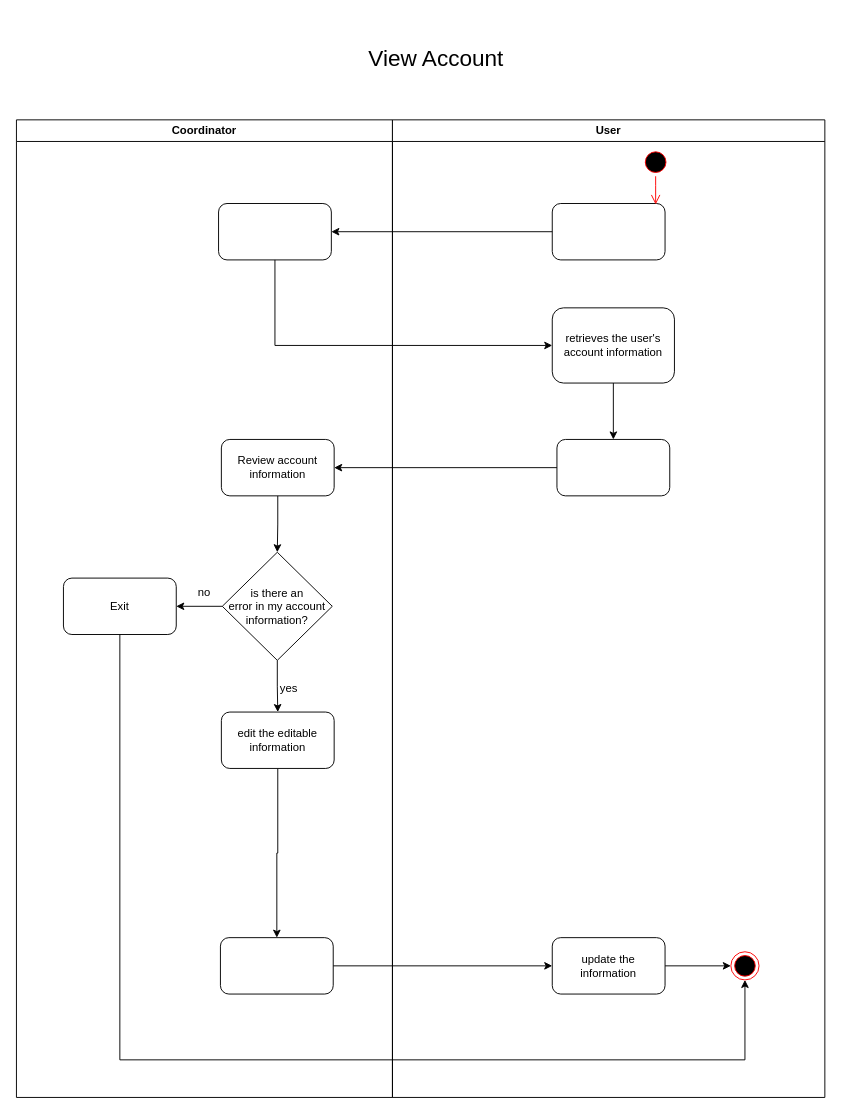
The diagram is 841 pixels wide and 1114 high, and some of its shapes have lost their labels. Each missing label, with the centre of its shape:
"Click Update" goes at (x=276, y=965).
"Display User's Data" goes at (x=613, y=467).
"Displays the tabs designated for the User" goes at (x=608, y=231).
"Navigate to My Profile Tab" goes at (x=274, y=231).
